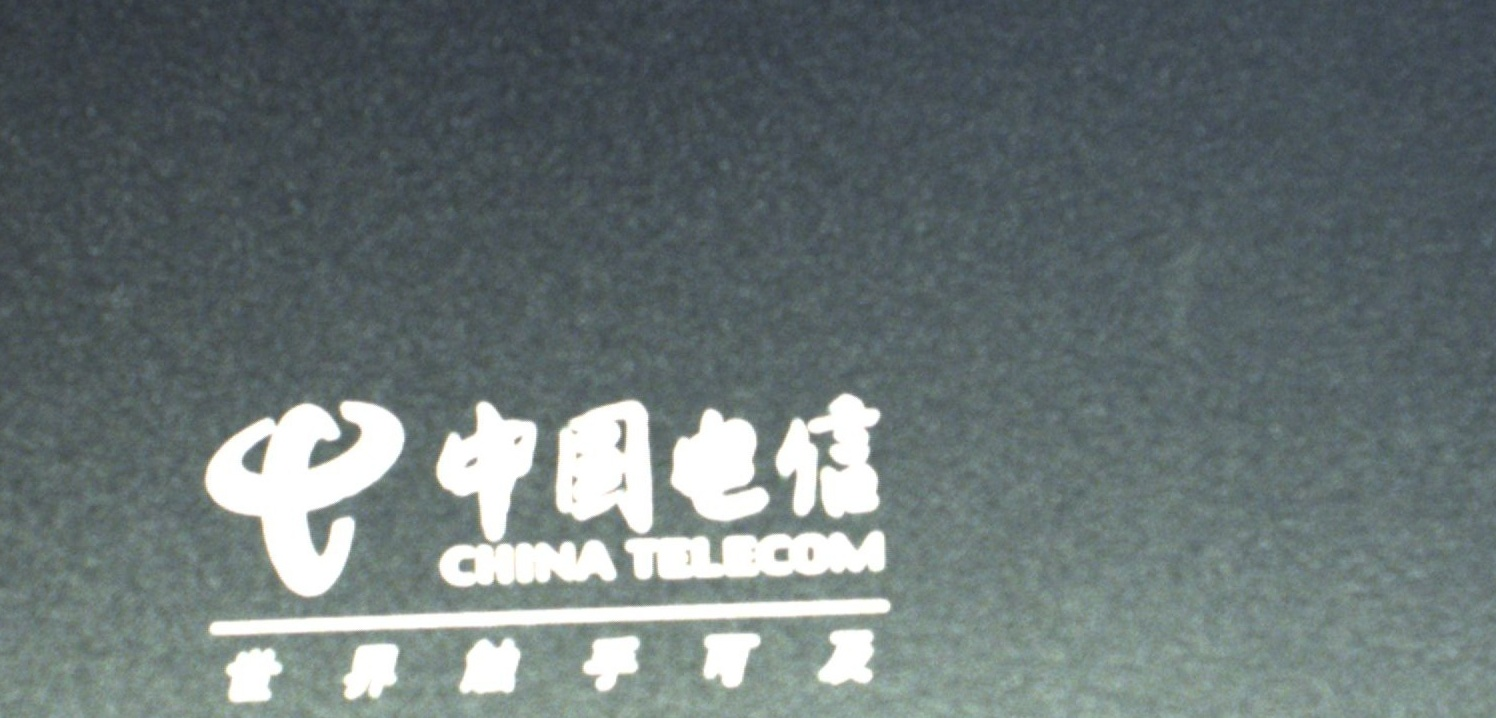AB_ChinaTelecom: (190, 387, 893, 706)
